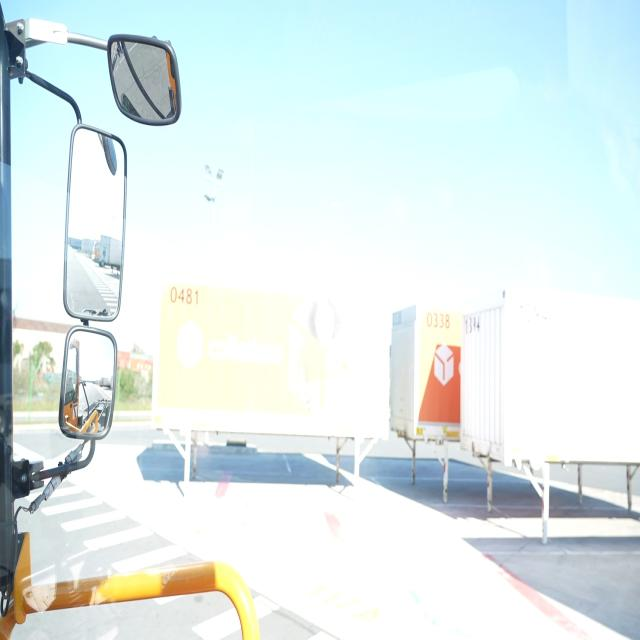Code: (169, 282, 204, 312), (422, 306, 456, 335)
